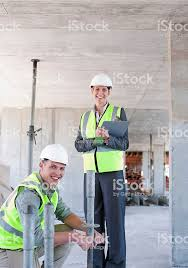helmet: (39, 146, 66, 166), (91, 75, 113, 89)
vest: (3, 180, 59, 251), (82, 112, 129, 170)
